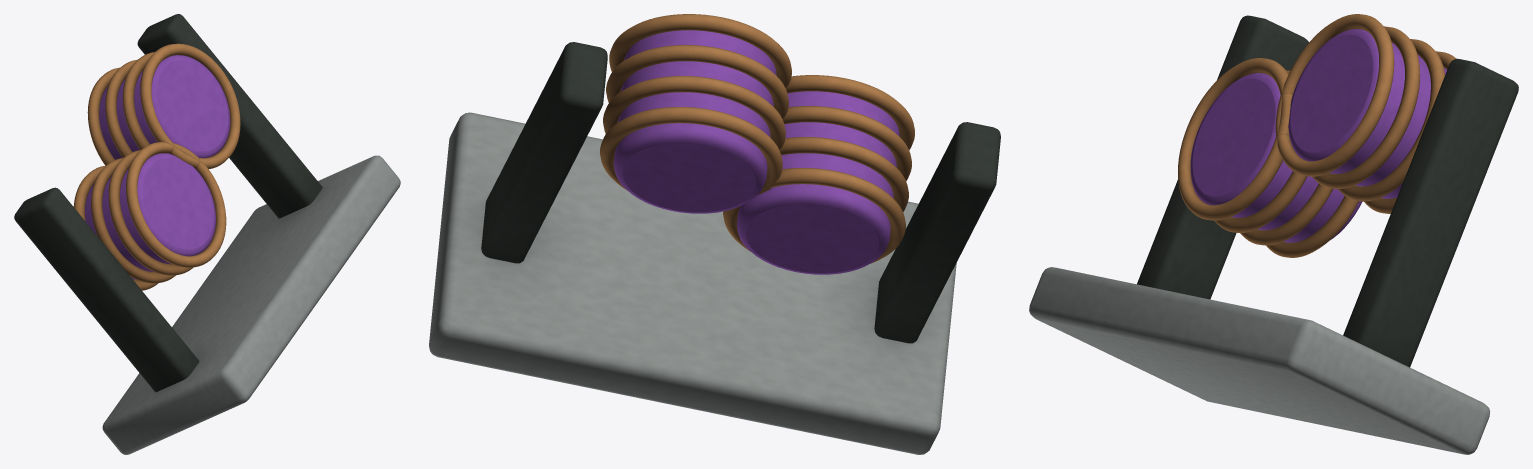
3 renders of one model, left to right at view 1: azimuth 30°, elevation 25°; view 2: azimuth 150°, elevation 25°; view 3: azimuth 270°, elevation 25°, orthographic. The views are drawn at different scales.
Parts seen in each view (by area): view 1: Bolted mechanical base; view 2: Bolted mechanical base; view 3: Bolted mechanical base.
Boxes of the visible parts, x1,y1,x2,y2 form: Bolted mechanical base: (14,14,400,454); Bolted mechanical base: (429,14,1000,454); Bolted mechanical base: (1029,14,1518,454).
Bounding box in the file's own units: 1.38 × 1.14 × 1.14.
Materials: 1 (1 with a texture image).
